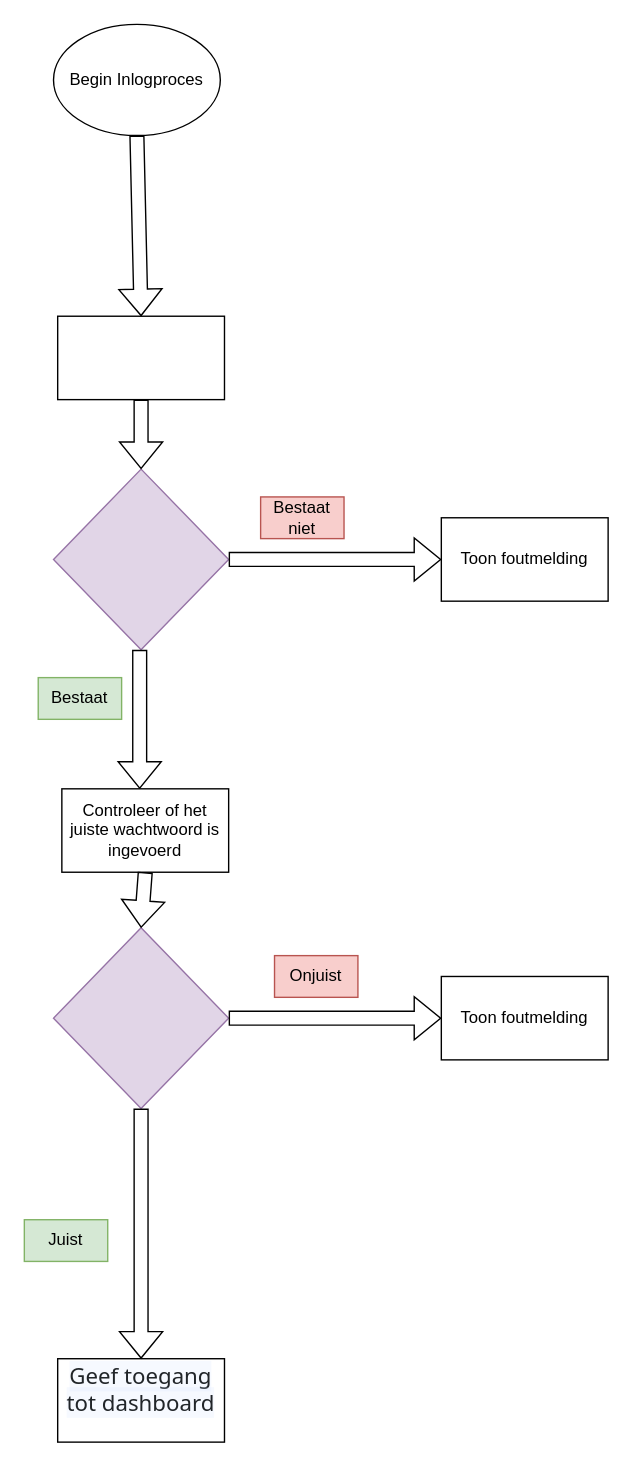
This 632x1482 diagram has some shape labels left out. Each missing label, with the centre of its shape:
Bestaat de gebruikersnaam?: the point at 140,559
Controleer gebruikersnaam: the point at 140,357
Is het de juiste wachtwoord?: the point at 140,1017
